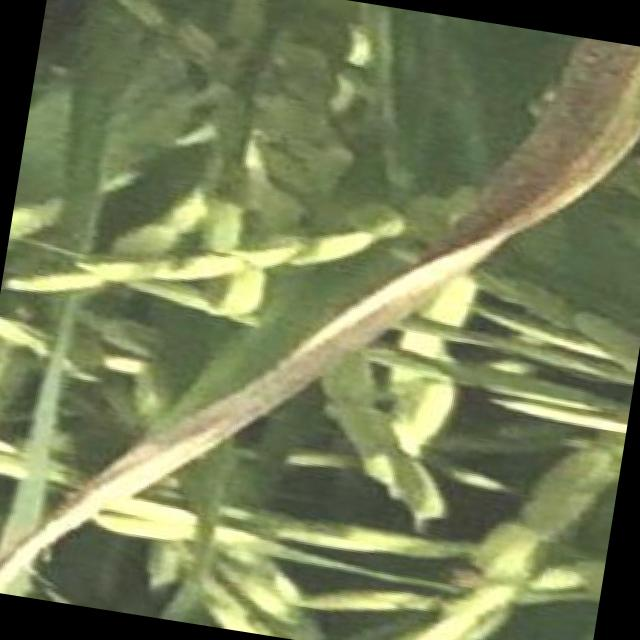Rice_Bacterial_Blight: (215, 249, 374, 426)
